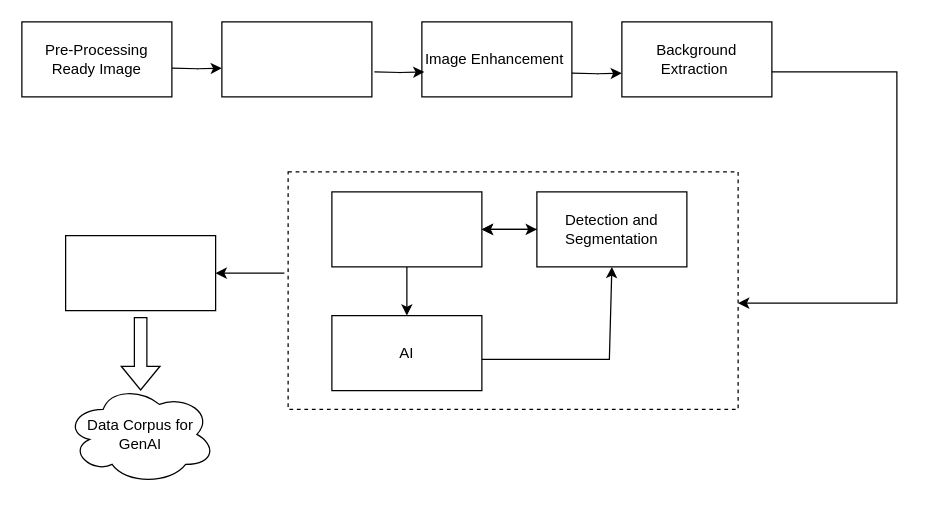
Image size: 929x506. Some labels were removed from this diagram. The shapes that lost their labels are listed below. From the top down, each one's centre as x and y in pixels, then its label:
At (x=296, y=59): "Image Thresholding".
At (x=406, y=229): "Feature Extraction".
At (x=140, y=272): "Classification & Clustering".
